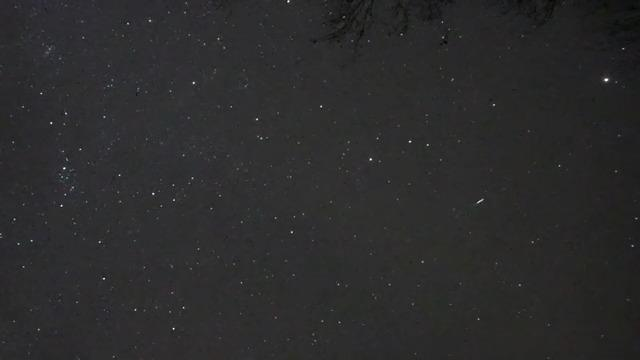meteorite: (465, 192, 494, 207)
